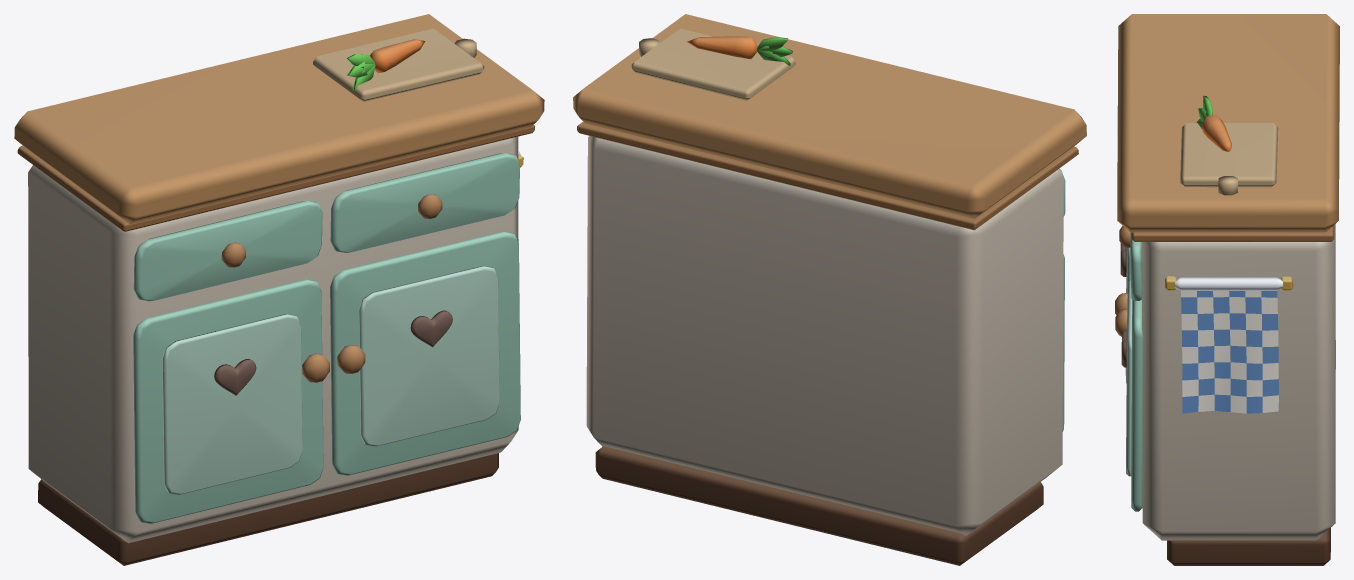
Rendered from furn-kitchenCounter.glb.
3 renders of one model, left to right at view 1: azimuth 30°, elevation 25°; view 2: azimuth 150°, elevation 25°; view 3: azimuth 270°, elevation 25°, orthographic. The views are drawn at different scales.
Parts seen in each view (by area): view 1: body, leaf; view 2: body, leaf; view 3: body, cloth.
Boxes of the visible parts, bbox=[...] form: body: bbox=[14, 14, 544, 565]; leaf: bbox=[346, 54, 375, 90]; body: bbox=[573, 14, 1086, 565]; leaf: bbox=[757, 37, 792, 65]; body: bbox=[1115, 14, 1339, 565]; cloth: bbox=[1174, 277, 1283, 413].
Size of the model in its own units: 0.9665 by 0.9432 by 0.4669.
